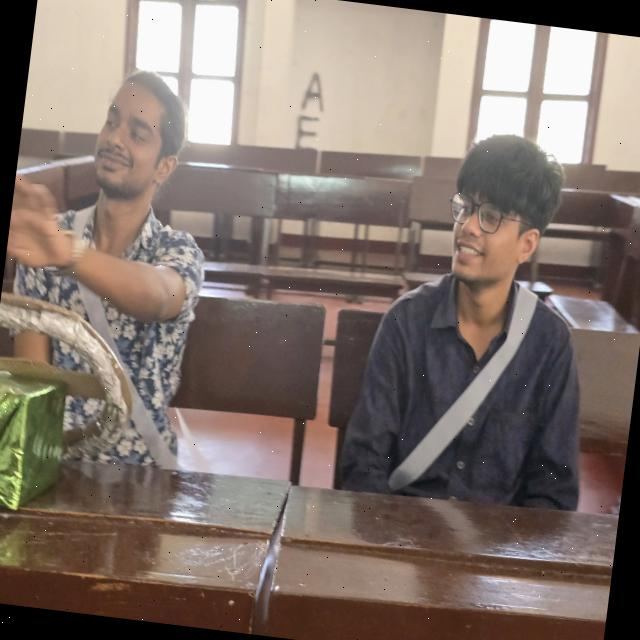seatbelt: (9, 200, 219, 479), (354, 276, 559, 506)
